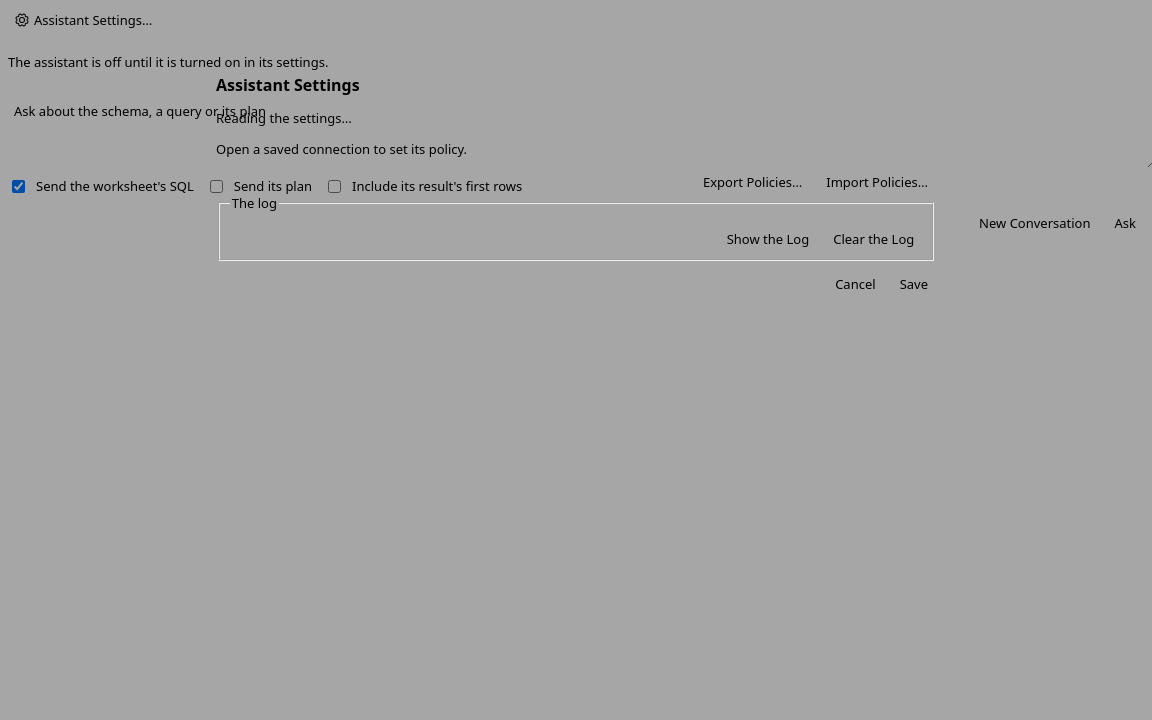
Scenario: the assistant at its edges › reads its settings, policy and log as none where the backend fails [DESIGN] D55
The width and height of the screenshot is (1152, 720).
Expected: the text "Reading the settings…" is shown, [216, 109, 352, 127]
Expected: the text "The assistant is off until it is turned on in its settings." is shown, [8, 53, 328, 71]
What coordinates should you click on to do the following:
click the button "Show the Log"
I would click on:
 (768, 239)
Its box is [719, 228, 817, 250].
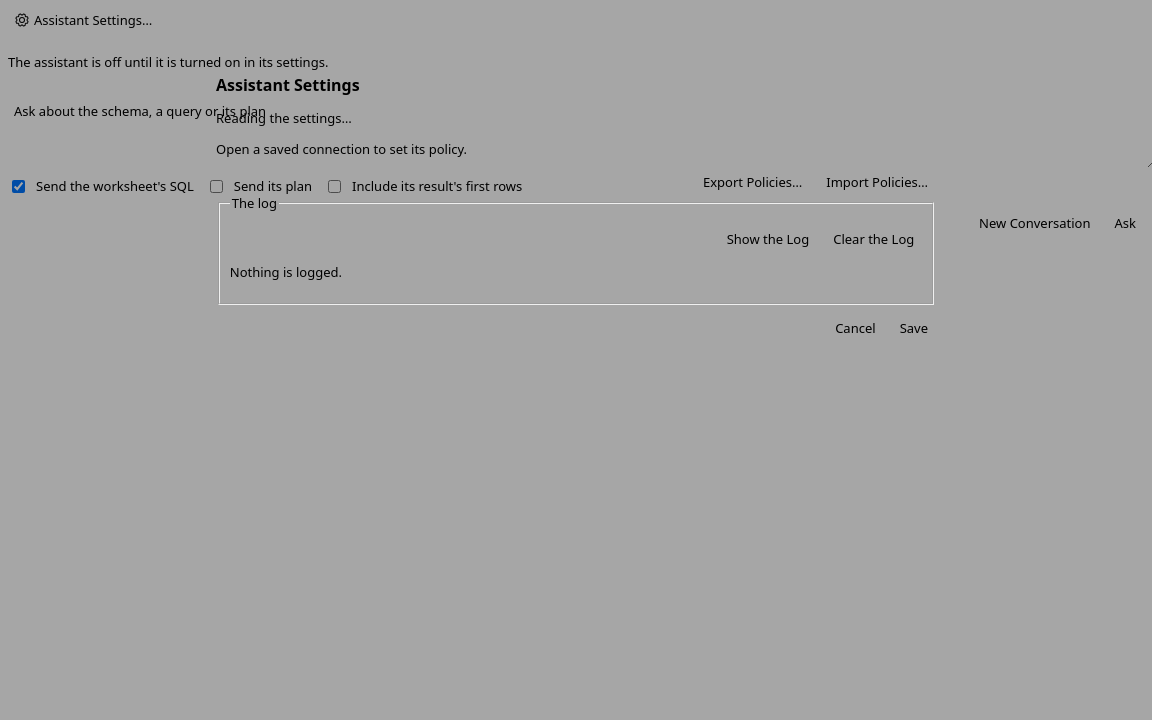
Now the text "Nothing is logged." is shown, box [230, 264, 342, 282]
